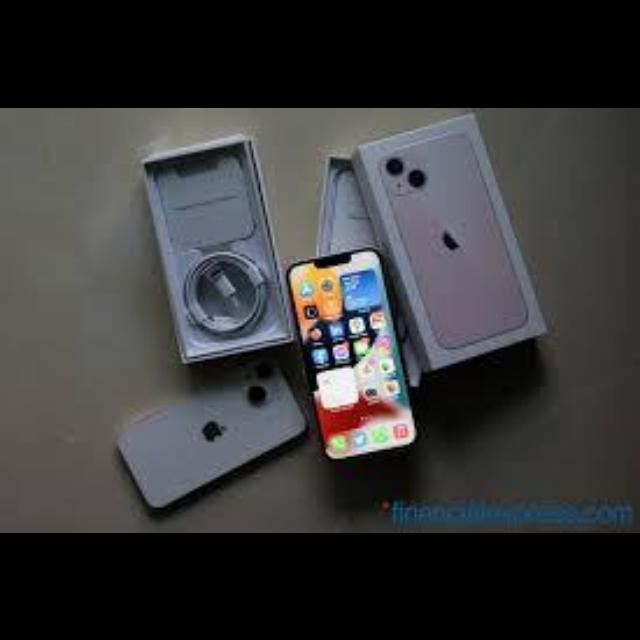PhoneUse: (380, 129, 528, 345), (118, 360, 306, 506), (287, 248, 415, 460)
